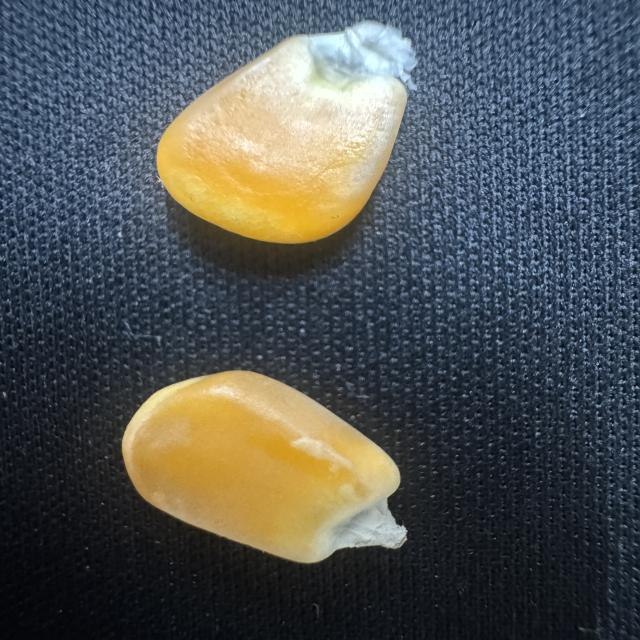Good-Seed: (151, 15, 424, 248), (116, 364, 410, 568)
